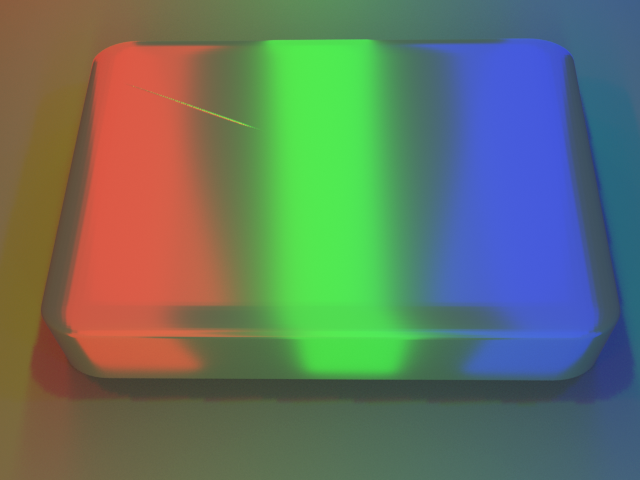scratch: (150, 15, 391, 218)
